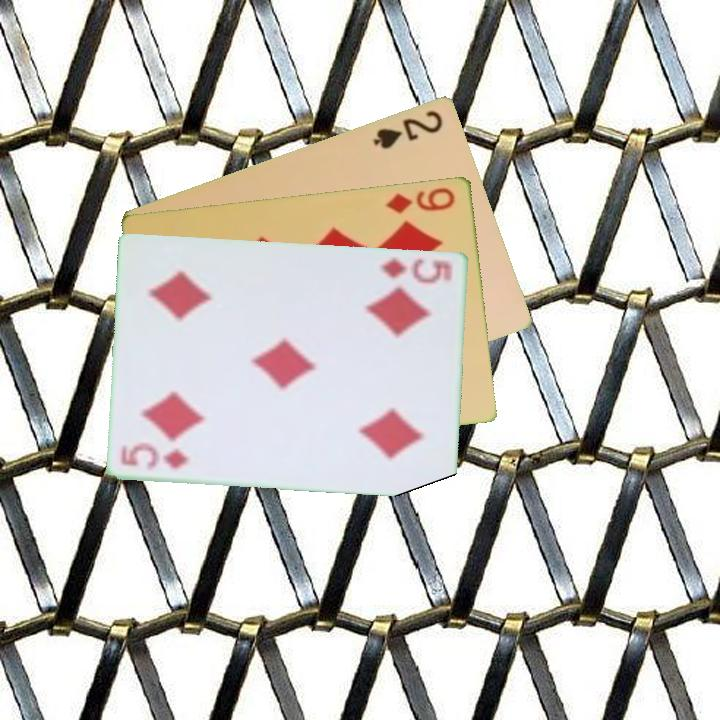2s: (370, 106, 446, 152)
5d: (377, 254, 457, 286), (118, 441, 193, 473)
9d: (382, 183, 458, 216)
